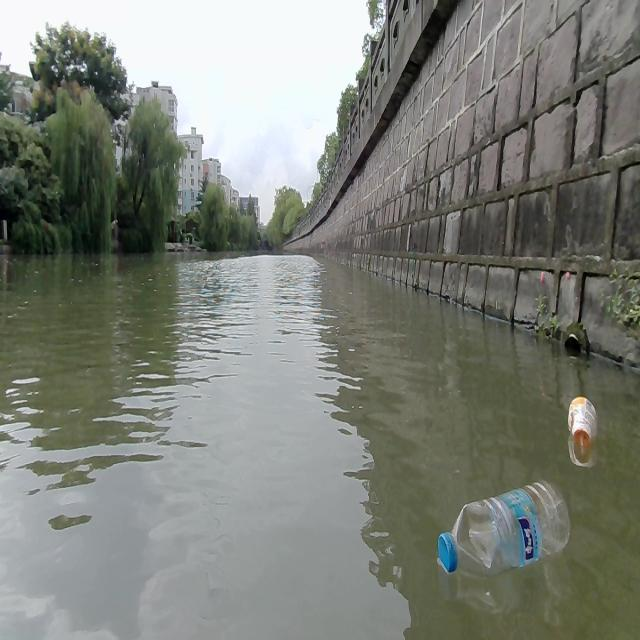bottle: (436, 476, 572, 574), (567, 396, 597, 446)
